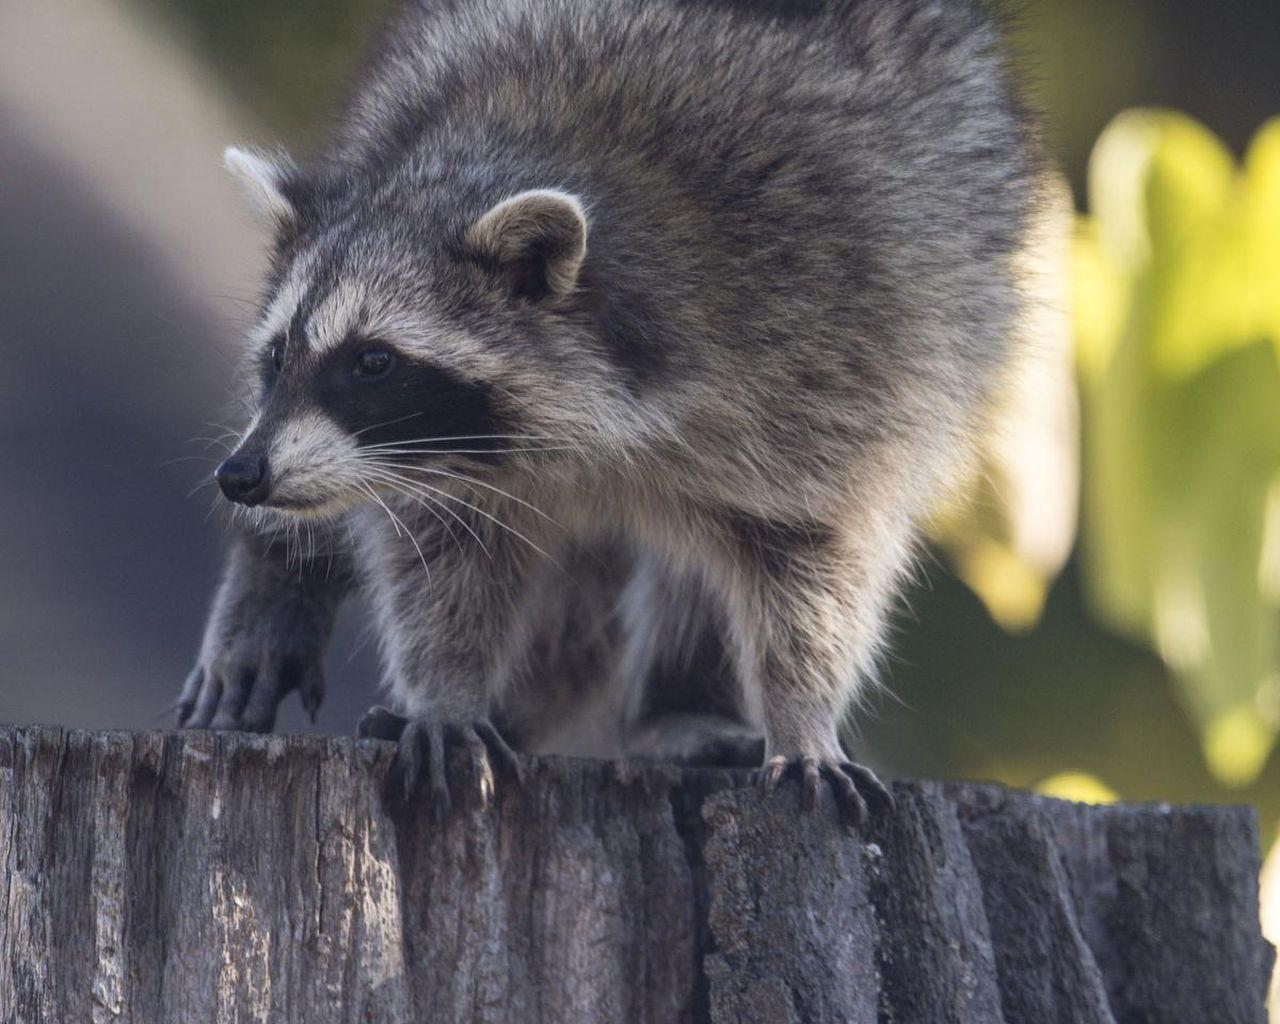raccoon: (167, 0, 1048, 850)
